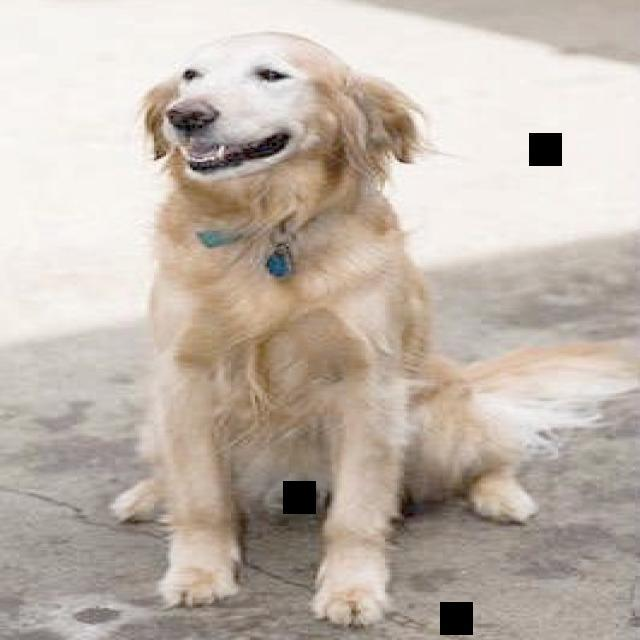adult_dog: (107, 29, 640, 626)
